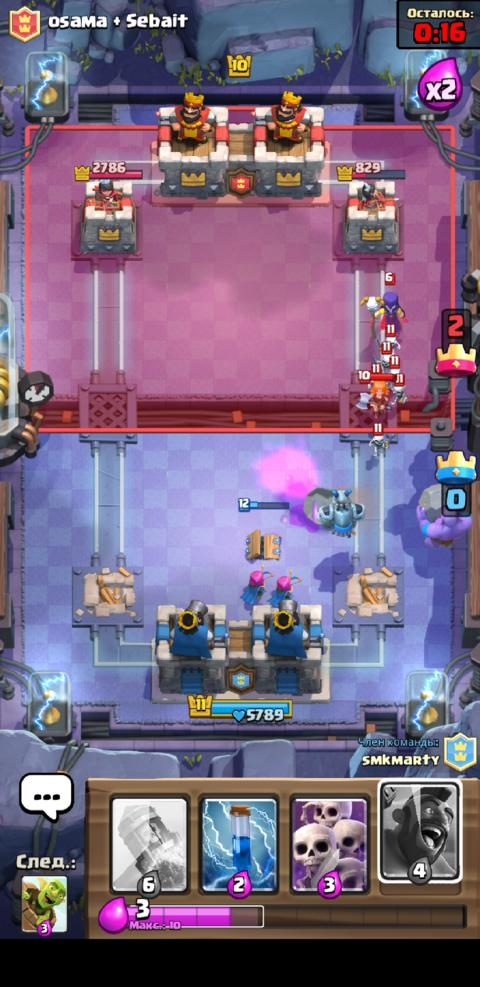ally_archer: (237, 563, 274, 607), (265, 569, 302, 607)
ally_mega_minion: (316, 486, 366, 537)
ally_tesla_hidden: (234, 495, 291, 563)
enemy_skeleton: (366, 422, 388, 458), (389, 370, 406, 406), (382, 322, 400, 353), (372, 340, 391, 368), (366, 362, 382, 392), (387, 353, 400, 375)
enemy_witch: (357, 271, 408, 339)
